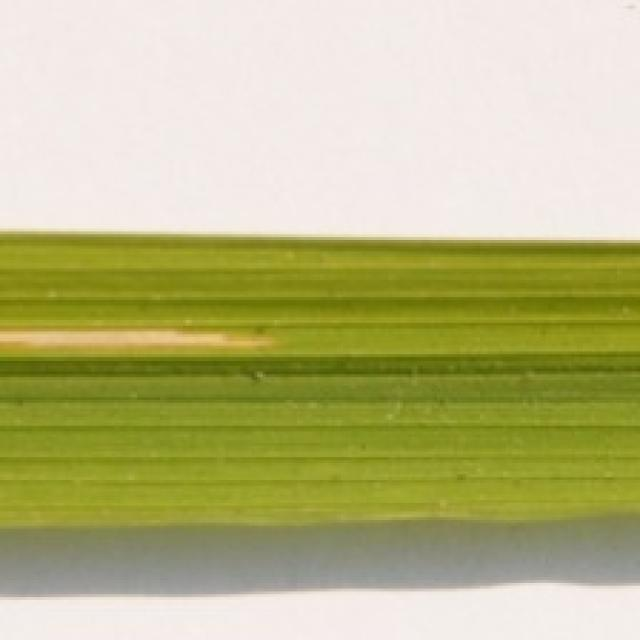Rice___Bacterial_Leaf_Blight: (0, 231, 637, 529)
